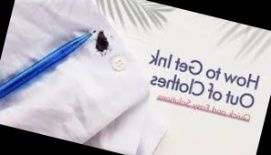ink: (94, 31, 111, 54)
